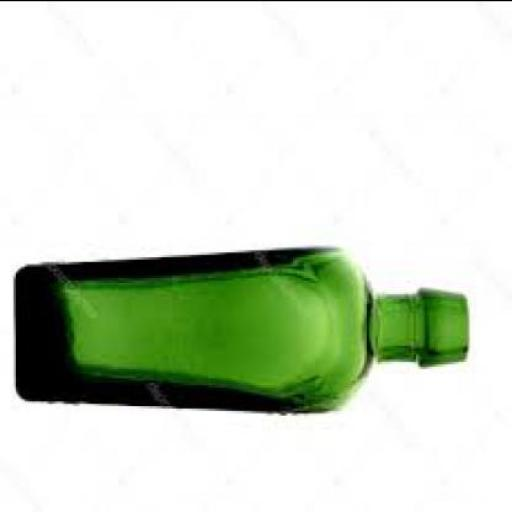glass: (18, 244, 472, 412)
